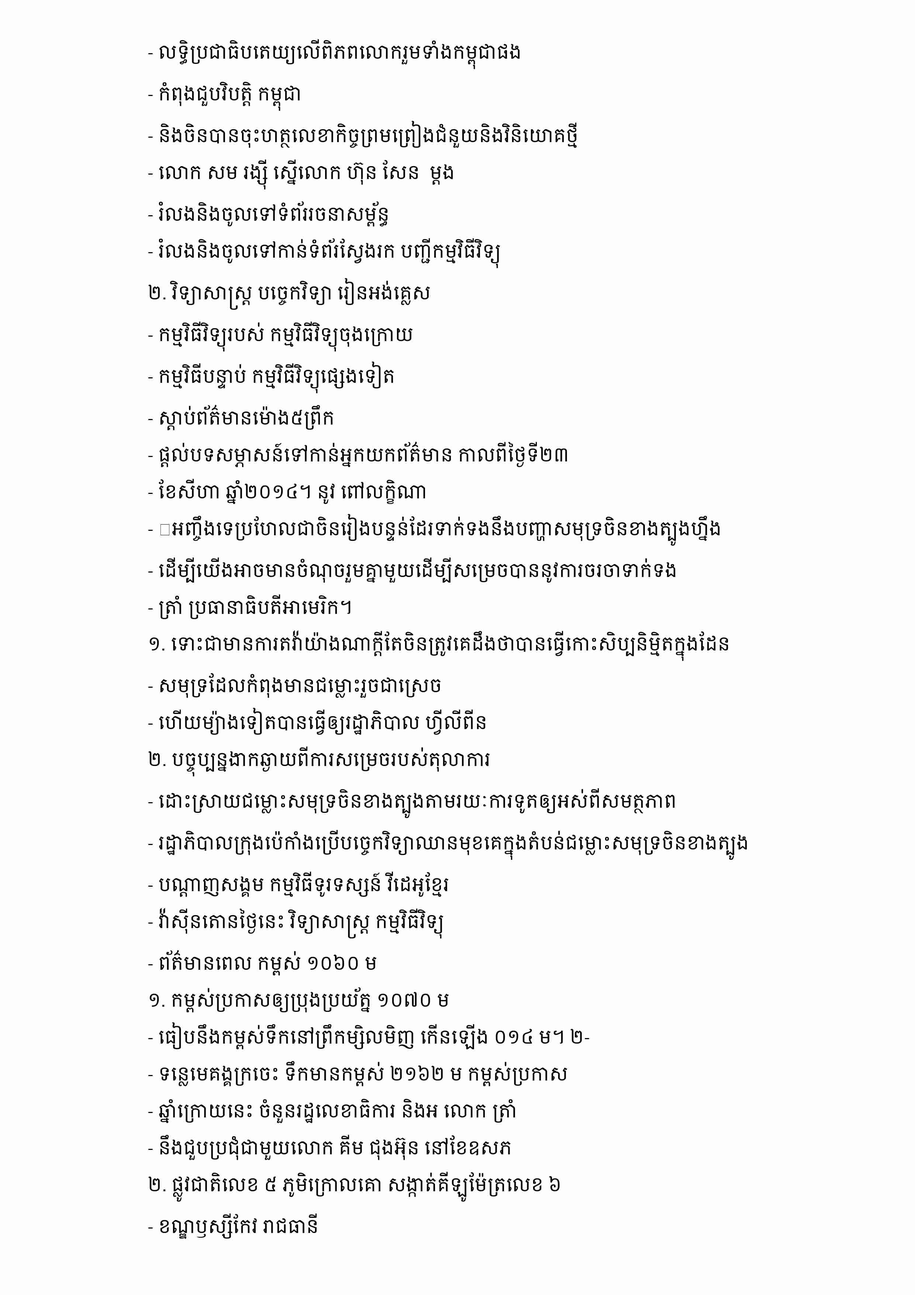text: (148, 514, 726, 546), (148, 630, 735, 661), (148, 830, 754, 860), (148, 788, 681, 818), (148, 557, 682, 583), (148, 1172, 567, 1202), (148, 1022, 595, 1050), (148, 121, 584, 148), (148, 39, 526, 69), (148, 746, 496, 777), (148, 238, 506, 268), (148, 442, 574, 467), (148, 1061, 573, 1086), (148, 159, 460, 190), (148, 908, 449, 939), (148, 708, 492, 735), (148, 1135, 517, 1160), (148, 278, 436, 310), (148, 1099, 522, 1123), (148, 361, 400, 394), (148, 322, 418, 352), (148, 987, 455, 1013), (148, 872, 454, 897), (148, 673, 447, 698), (148, 479, 432, 504), (148, 201, 394, 227), (148, 950, 382, 976), (148, 594, 357, 619), (148, 405, 340, 430), (148, 82, 307, 111), (148, 1213, 324, 1239)
